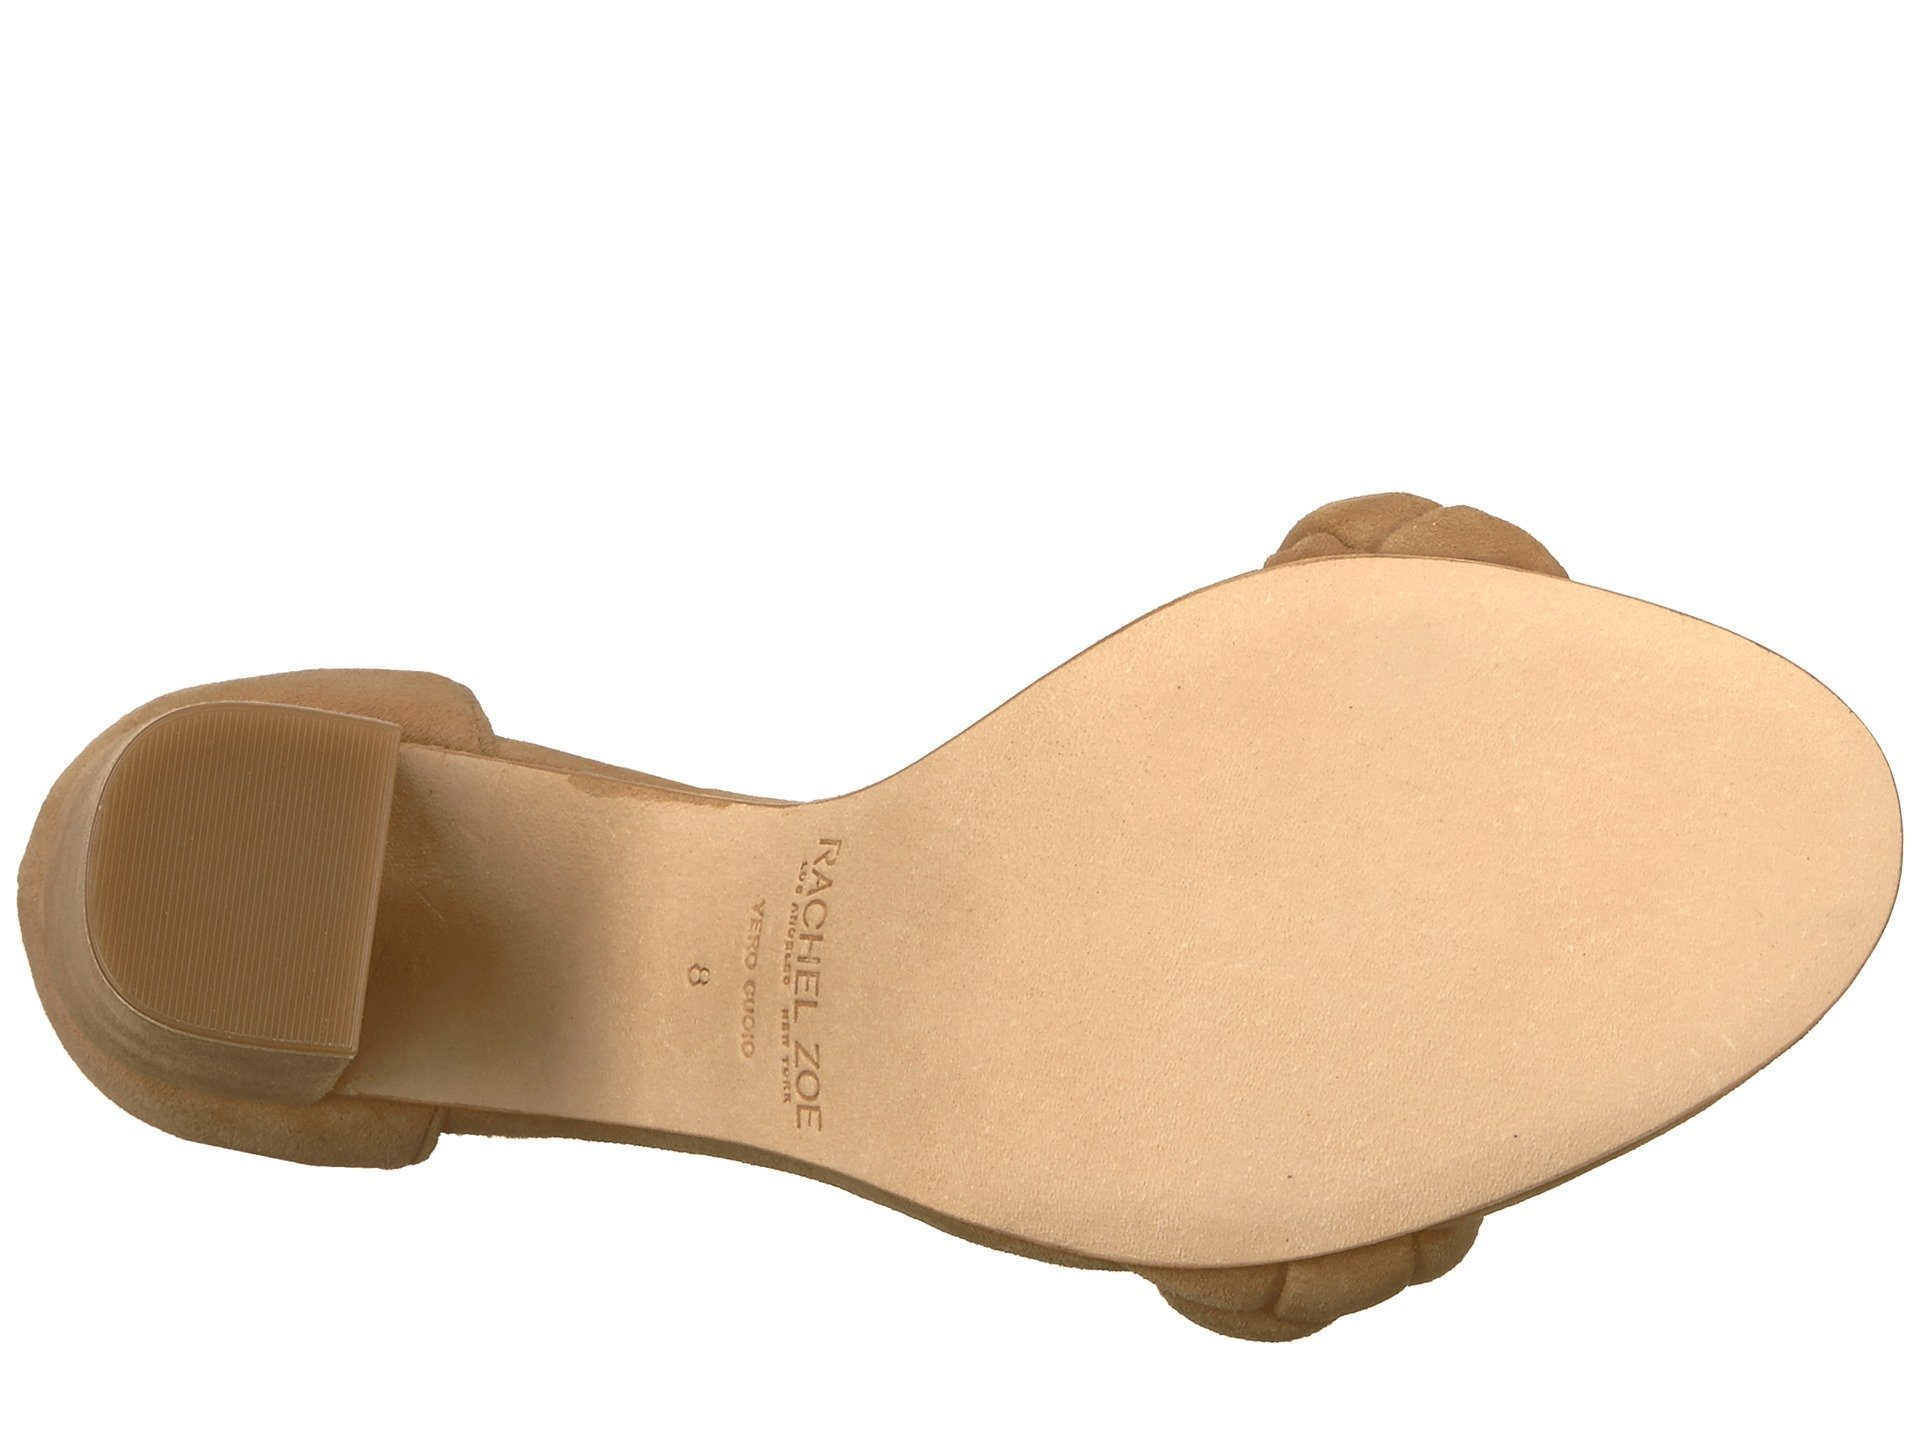exclude: (466, 591, 1014, 1281), (1268, 457, 1596, 569), (1120, 1268, 1476, 1361)
line: (166, 773, 327, 956)
